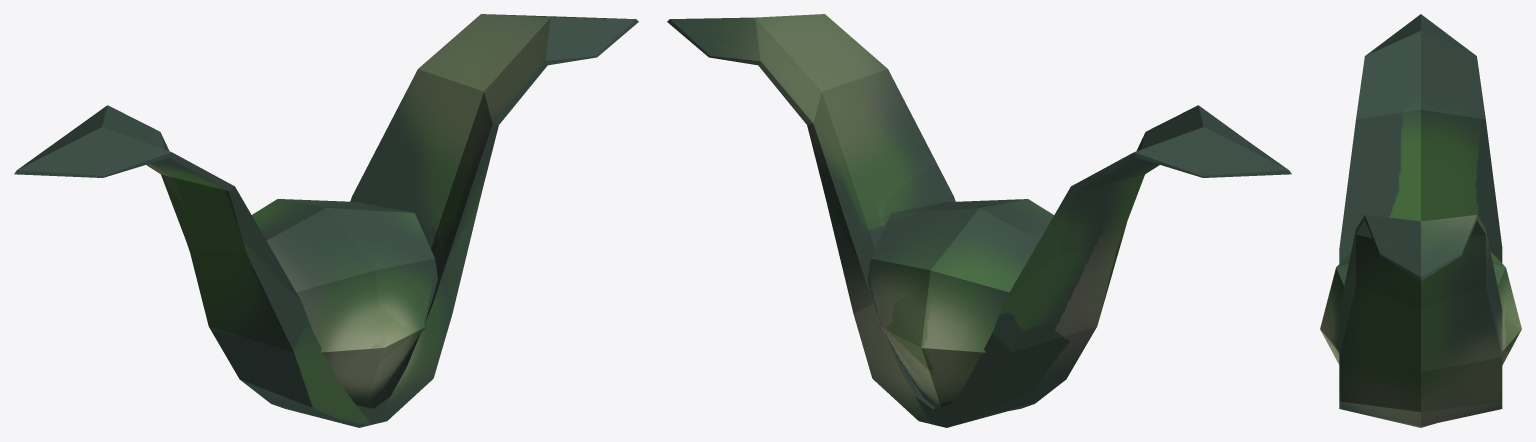
File: carnation_leaves.glb
The picture shows the model from 3 angles, left to right: view 1: azimuth 30°, elevation 25°; view 2: azimuth 150°, elevation 25°; view 3: azimuth 270°, elevation 25°; orthographic projection. The views are drawn at different scales.
Parts seen in each view (by area): view 1: carnation_leaves; view 2: carnation_leaves; view 3: carnation_leaves.
Part boxes in pixels (box(x1,y1,x2,y2)): carnation_leaves: box(14, 14, 638, 427); carnation_leaves: box(667, 14, 1291, 427); carnation_leaves: box(1320, 14, 1521, 427).
Size of the model in its own units: 0.5637 by 0.2879 by 0.1811.
Materials: 1 (1 with a texture image).
